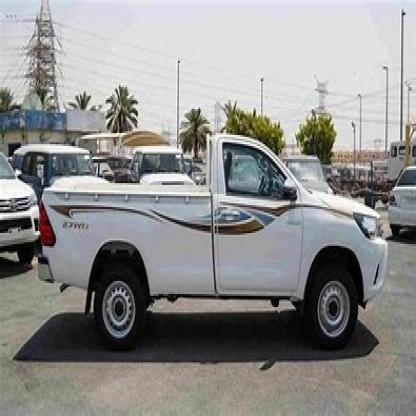light_vehicle: (34, 128, 386, 361)
